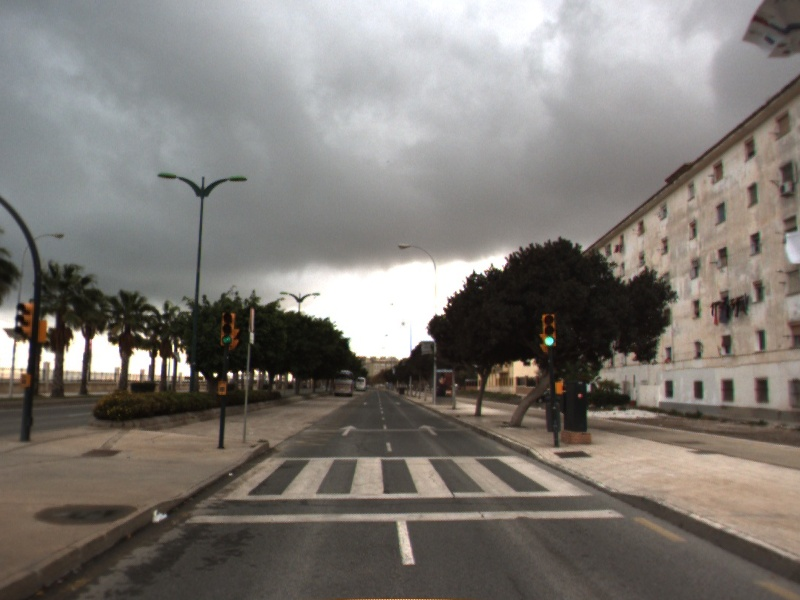STRAIGHT: (417, 422, 442, 437), (337, 423, 360, 438)
